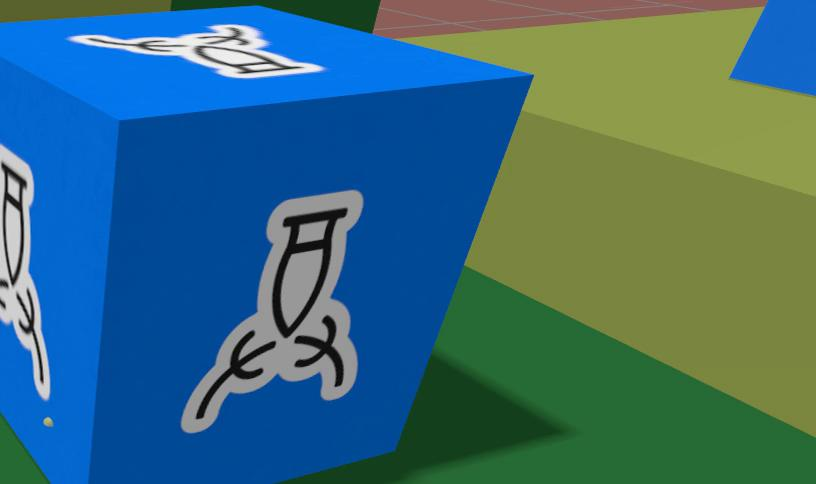KFS_REAL: (0, 7, 530, 484), (182, 192, 362, 432), (70, 24, 325, 78), (0, 145, 50, 400)
